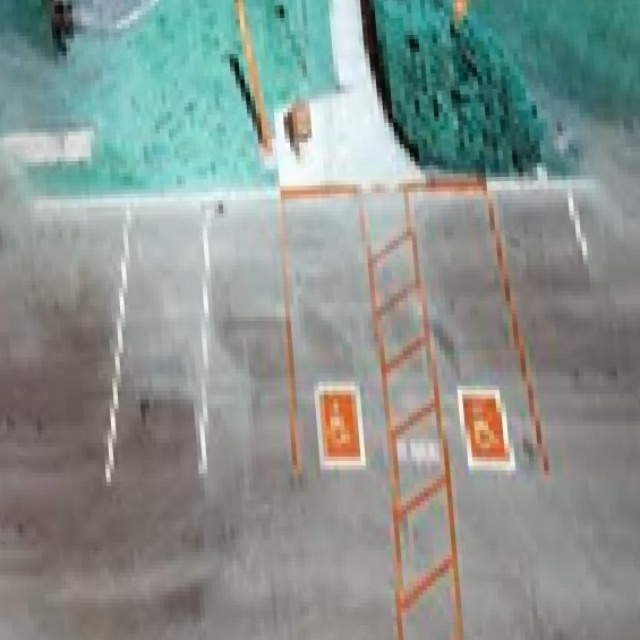ISA: (467, 401, 500, 447), (326, 398, 354, 449)
